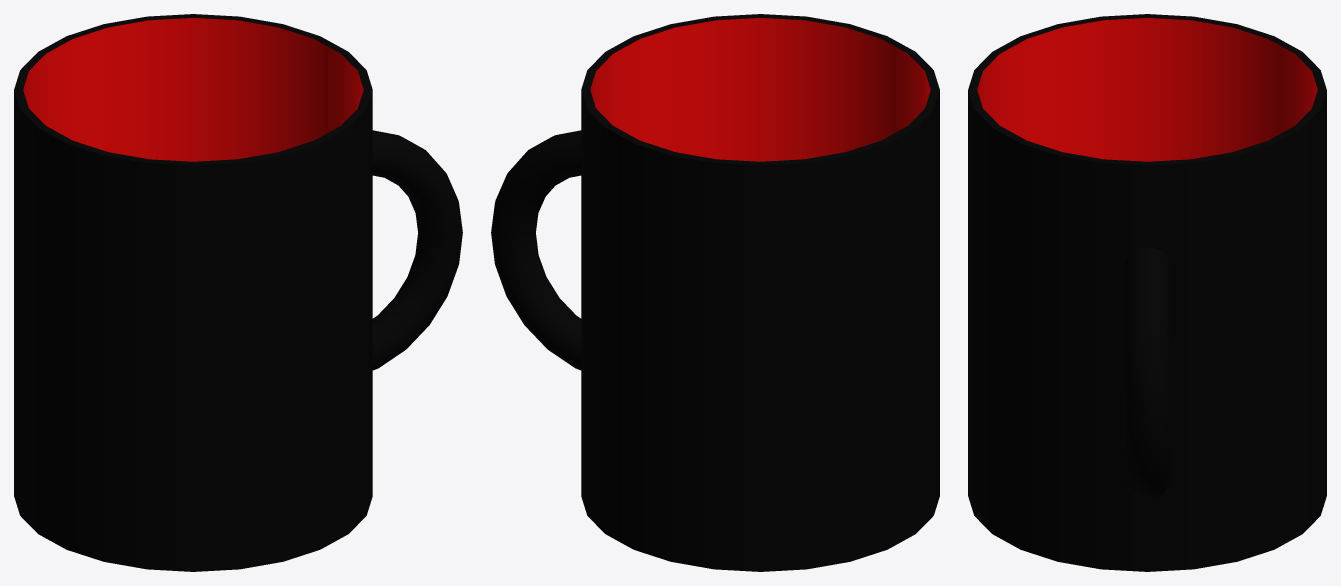
The model's file is mug_19_orgin_gt_4.dae.
The picture shows the model from 3 angles, left to right: view 1: azimuth 30°, elevation 25°; view 2: azimuth 150°, elevation 25°; view 3: azimuth 270°, elevation 25°; orthographic projection.
Parts seen in each view (by area): view 1: SketchUp (×2), group_0; view 2: SketchUp (×2), group_0; view 3: SketchUp (×2), group_0.
Part boxes in pixels (x1,y1,x2,y2): SketchUp (×2): (14,14,372,571); group_0: (372,130,462,370); SketchUp (×2): (581,14,939,571); group_0: (491,130,581,370); SketchUp (×2): (968,14,1326,571); group_0: (1125,247,1169,500).
Bounding box in the file's own units: 4.28 × 3.15 × 3.94.
